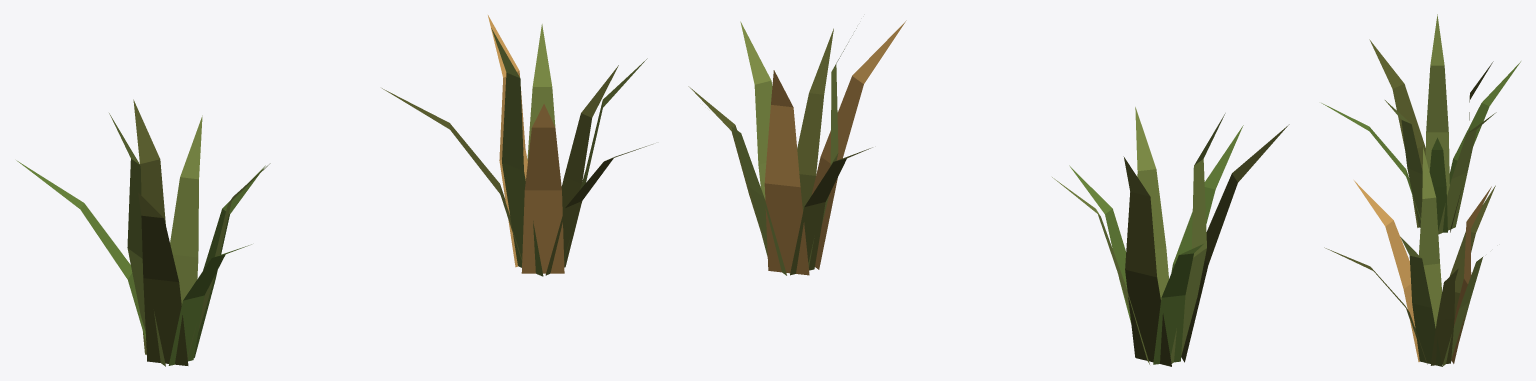
File: Grass_Tufts.glb
3 renders of one model, left to right at view 1: azimuth 30°, elevation 25°; view 2: azimuth 150°, elevation 25°; view 3: azimuth 270°, elevation 25°, orthographic. The views are drawn at different scales.
Visible parts, largest first — view 1: Grass tuft Meadow green, Grass tuft Dry golden green; view 2: Grass tuft Dry golden green, Grass tuft Meadow green; view 3: Grass tuft Dry golden green, Grass tuft Meadow green.
Part boxes in pixels (bbox=[...]): Grass tuft Meadow green: bbox=[16, 99, 270, 366]; Grass tuft Dry golden green: bbox=[382, 15, 652, 276]; Grass tuft Dry golden green: bbox=[688, 20, 906, 275]; Grass tuft Meadow green: bbox=[1052, 107, 1289, 366]; Grass tuft Dry golden green: bbox=[1324, 147, 1495, 366]; Grass tuft Meadow green: bbox=[1321, 14, 1520, 234].
Size of the model in its own units: 1.67 by 0.74 by 0.717.
Materials: 1 (1 with a texture image).
